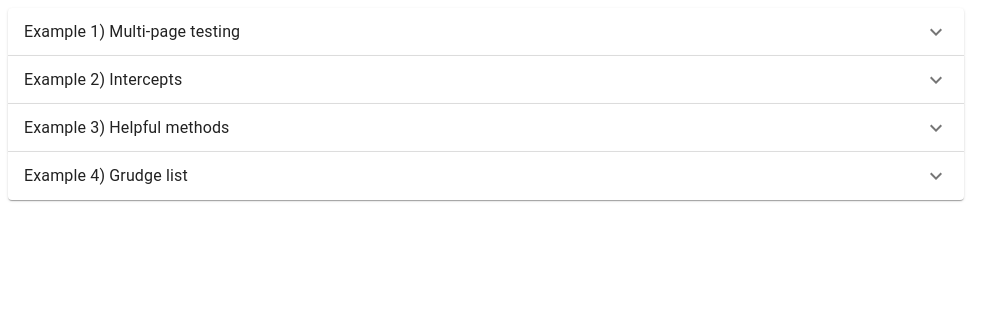
it: Accordion.cy.jsx › Items accordion
The image size is (982, 323).
Click the button "Example 1) Multi-page testing" at {"x": 132, "y": 32}, box [24,20,948,44]
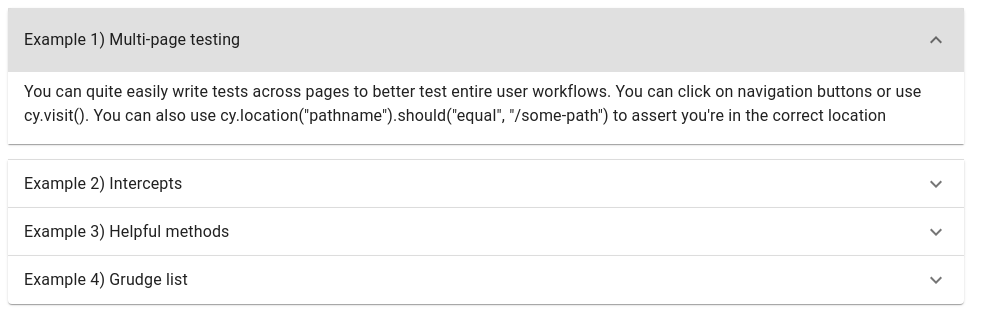
Check: the text "You can quite easily write tests across pages to better test entire user workflows" is shown, box [24,82,922,125]
Click the button "Example 1) Multi-page testing" at {"x": 132, "y": 40}, box [8,8,964,72]
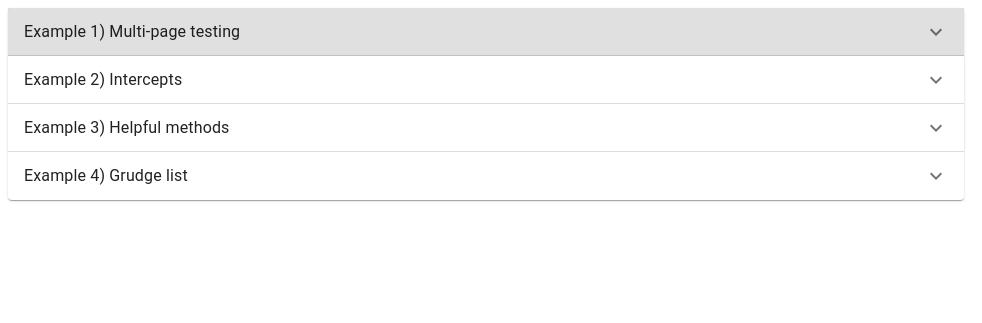
Check: the text "You can quite easily write tests across pages to better test entire user workflows" is gone
